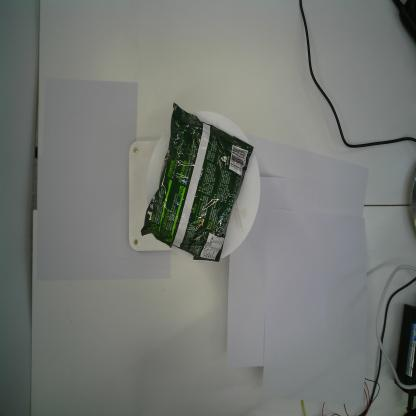Instant Noodles: (141, 102, 254, 263)
